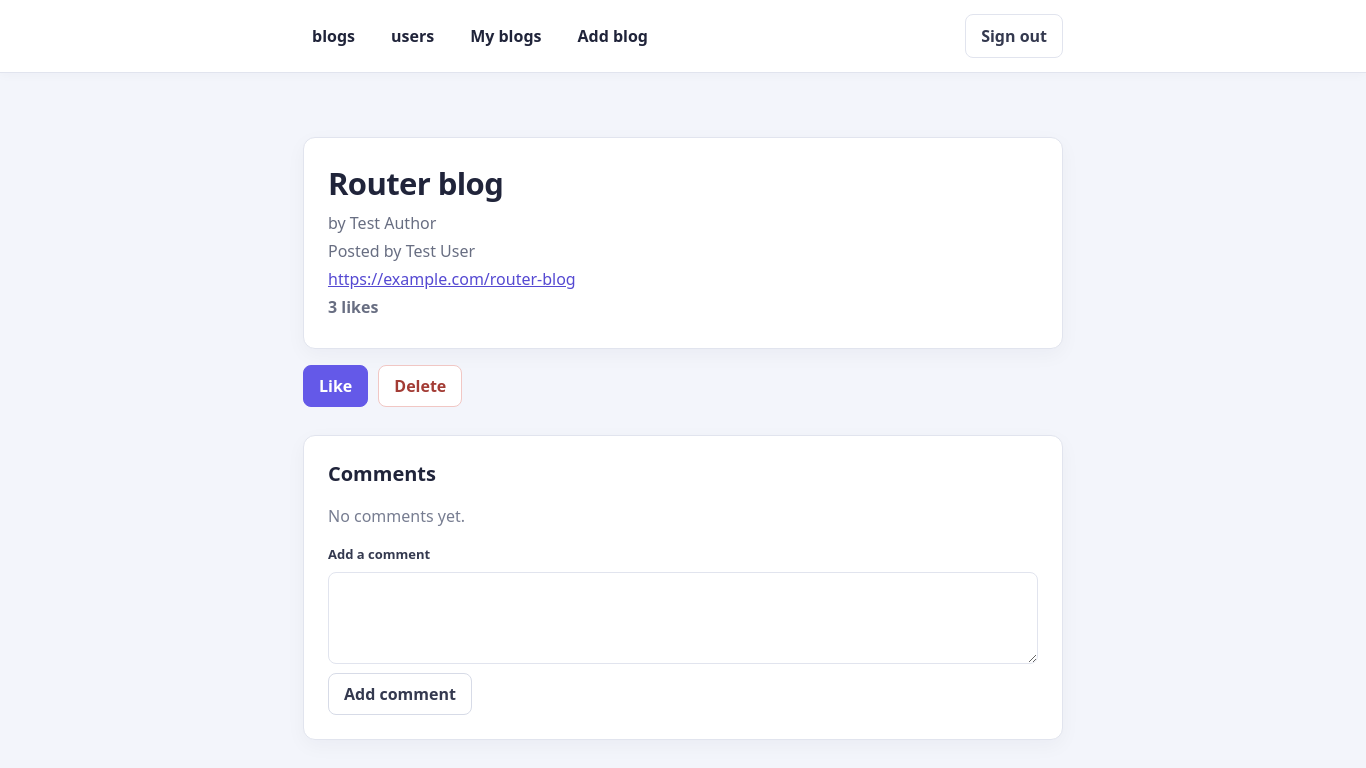
Test case: App routes and navigation › likes a blog for a logged-in user
Click the button "Like".
click(336, 386)  # box [303,365,368,407]
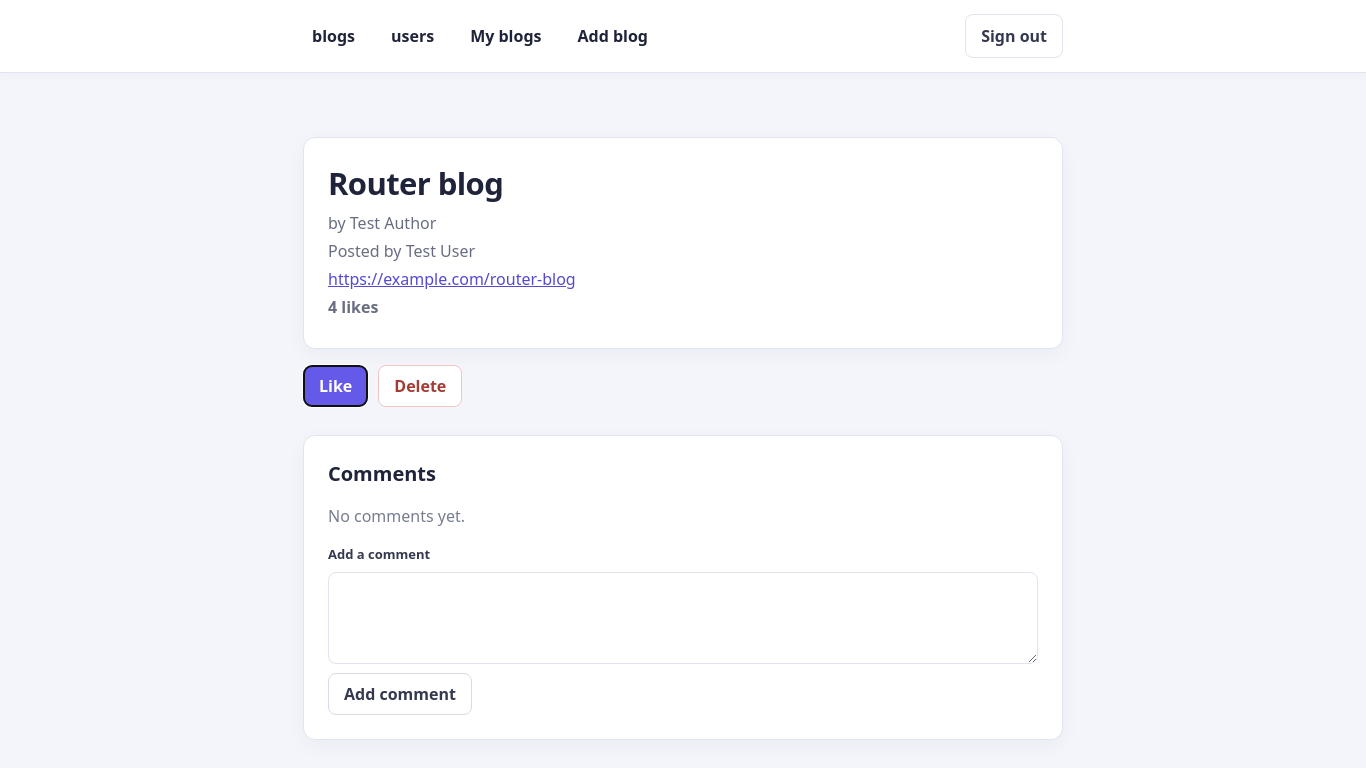
Check: the text "4 likes" is shown, box [328,296,378,318]
